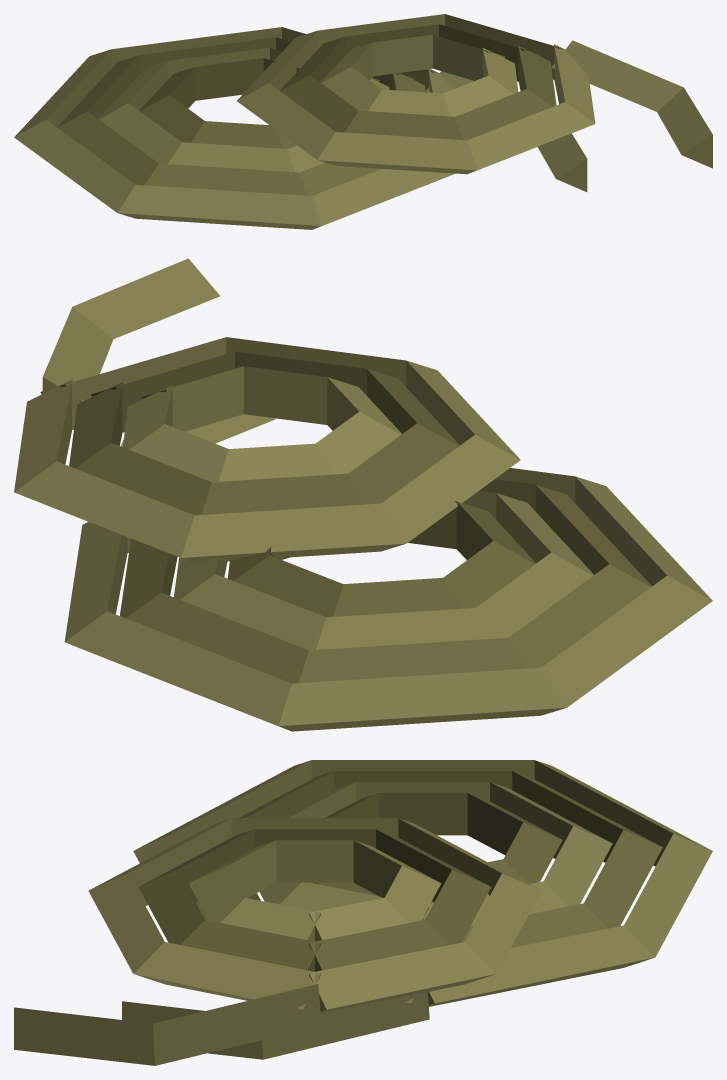
Rendered from storage_fiber_rope.glb.
3 renders of one model, top to bottom at view 1: azimuth 30°, elevation 25°; view 2: azimuth 150°, elevation 25°; view 3: azimuth 270°, elevation 25°, orthographic. The views are drawn at different scales.
Parts seen in each view (by area): view 1: storage_fiber_rope; view 2: storage_fiber_rope; view 3: storage_fiber_rope.
Part boxes in pixels (x1,y1,x2,y2): storage_fiber_rope: (14,14,712,229); storage_fiber_rope: (14,258,712,731); storage_fiber_rope: (14,760,712,1065).
Size of the model in its own units: 1.36 by 0.2366 by 1.29.
